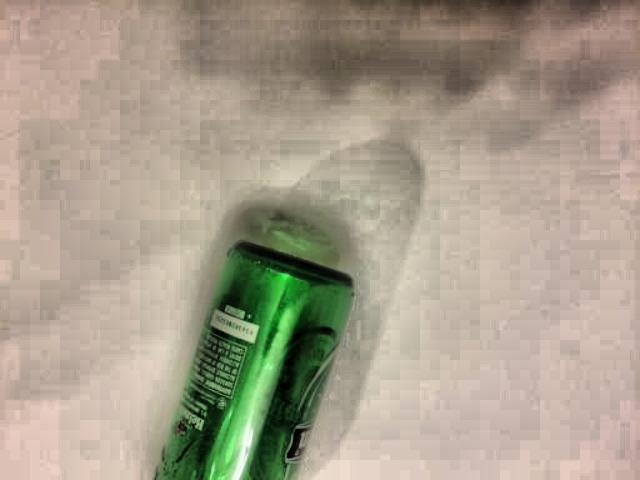Bottles: (127, 230, 377, 480)
